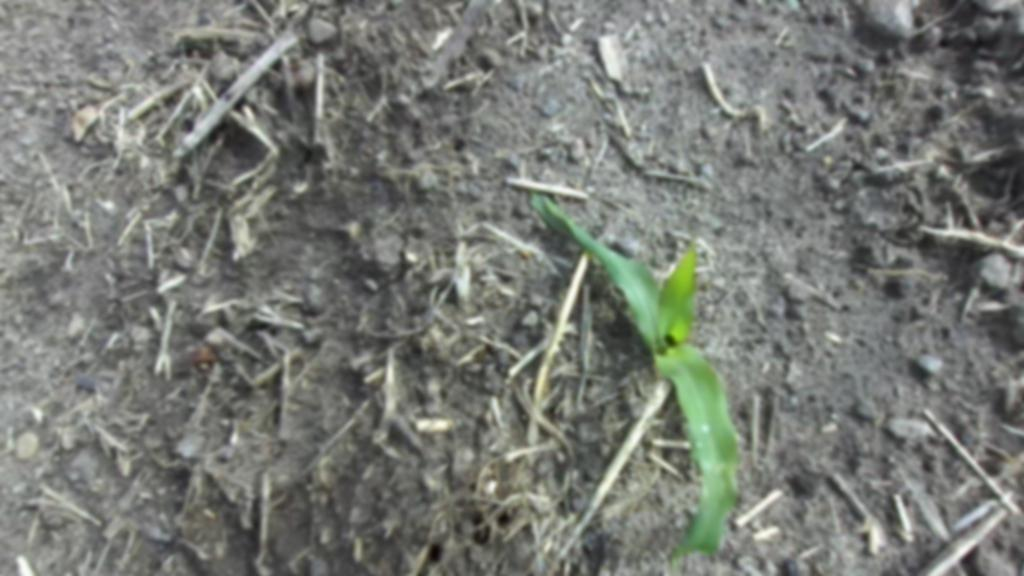Maize: (530, 154, 775, 576)
